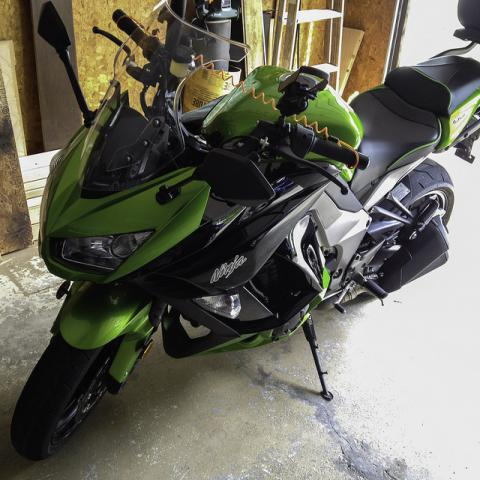motorcycle: (3, 38, 478, 444)
